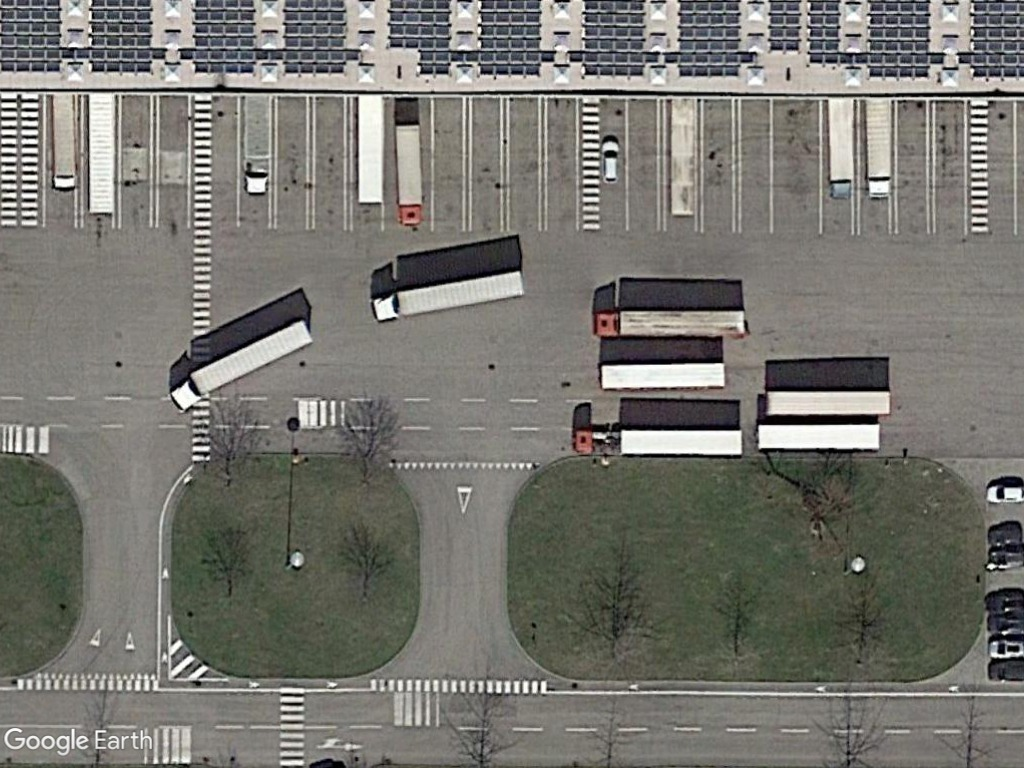car: (598, 135, 623, 189), (980, 477, 1024, 507), (983, 636, 1024, 663)
longvehicle: (164, 313, 314, 416), (366, 267, 525, 327), (568, 424, 746, 460), (589, 308, 753, 343), (757, 384, 896, 420), (593, 359, 732, 394), (84, 92, 120, 220), (750, 419, 884, 453), (354, 94, 388, 210), (823, 97, 857, 203), (861, 98, 894, 203)
truck: (390, 121, 428, 229), (240, 95, 275, 197), (49, 94, 81, 194)
